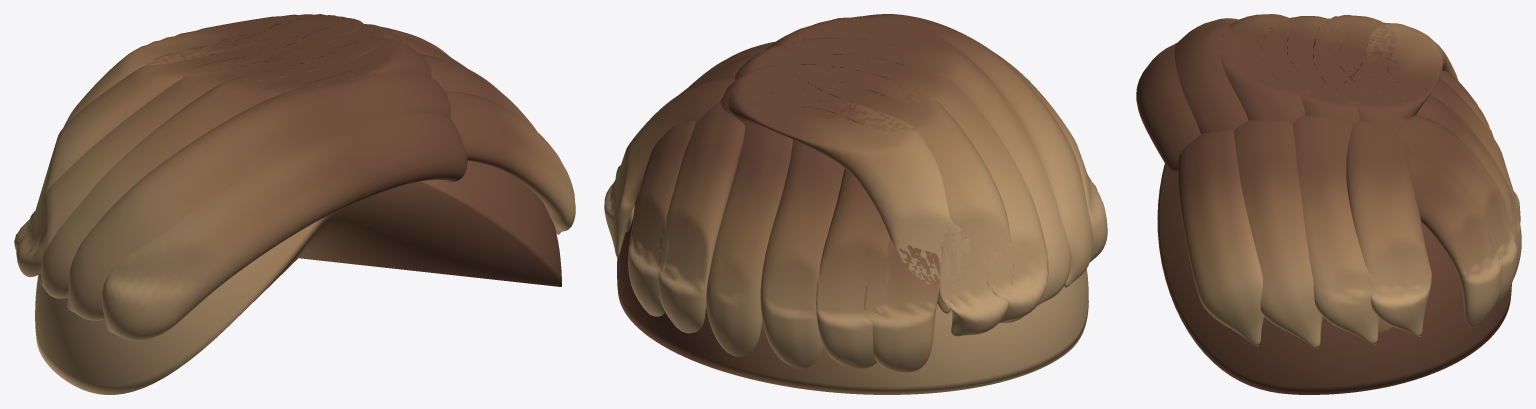
The model's file is Ombre-8b802f876ba7253-hair.glb.
3 views of the same model, side by side, from view 1: azimuth 30°, elevation 25°; view 2: azimuth 150°, elevation 25°; view 3: azimuth 270°, elevation 25° (orthographic). The views are drawn at different scales.
Parts seen in each view (by area): view 1: 226 hair / Hair / sculpted 0.002, 226 hair / Hair / sculpted 1.003, 226 hair / Hair / sculpted 1, 226 hair / Hair / sculpted 2.002; view 2: 226 hair / Hair / sculpted 1.003, 226 hair / Hair / sculpted 0.002, 226 hair / Hair / sculpted 2.002, 226 hair / Hair / sculpted 1; view 3: 226 hair / Hair / sculpted 0.002, 226 hair / Hair / sculpted 1.003, 226 hair / Hair / sculpted 2.002, 226 hair / Hair / sculpted 1.
Part boxes in pixels (<box>): 226 hair / Hair / sculpted 0.002: <box>16,23,575,340</box>; 226 hair / Hair / sculpted 1.003: <box>14,14,537,320</box>; 226 hair / Hair / sculpted 1: <box>35,160,561,394</box>; 226 hair / Hair / sculpted 2.002: <box>41,34,466,298</box>; 226 hair / Hair / sculpted 1.003: <box>625,14,1092,368</box>; 226 hair / Hair / sculpted 0.002: <box>604,37,1107,372</box>; 226 hair / Hair / sculpted 2.002: <box>615,15,1071,368</box>; 226 hair / Hair / sculpted 1: <box>617,193,1088,394</box>; 226 hair / Hair / sculpted 0.002: <box>1136,16,1521,346</box>; 226 hair / Hair / sculpted 1.003: <box>1174,15,1517,348</box>; 226 hair / Hair / sculpted 2.002: <box>1216,14,1520,344</box>; 226 hair / Hair / sculpted 1: <box>1157,163,1511,394</box>.
Bounding box in the file's own units: 0.9751 × 0.5369 × 0.761.
4 materials, 4 textured.
